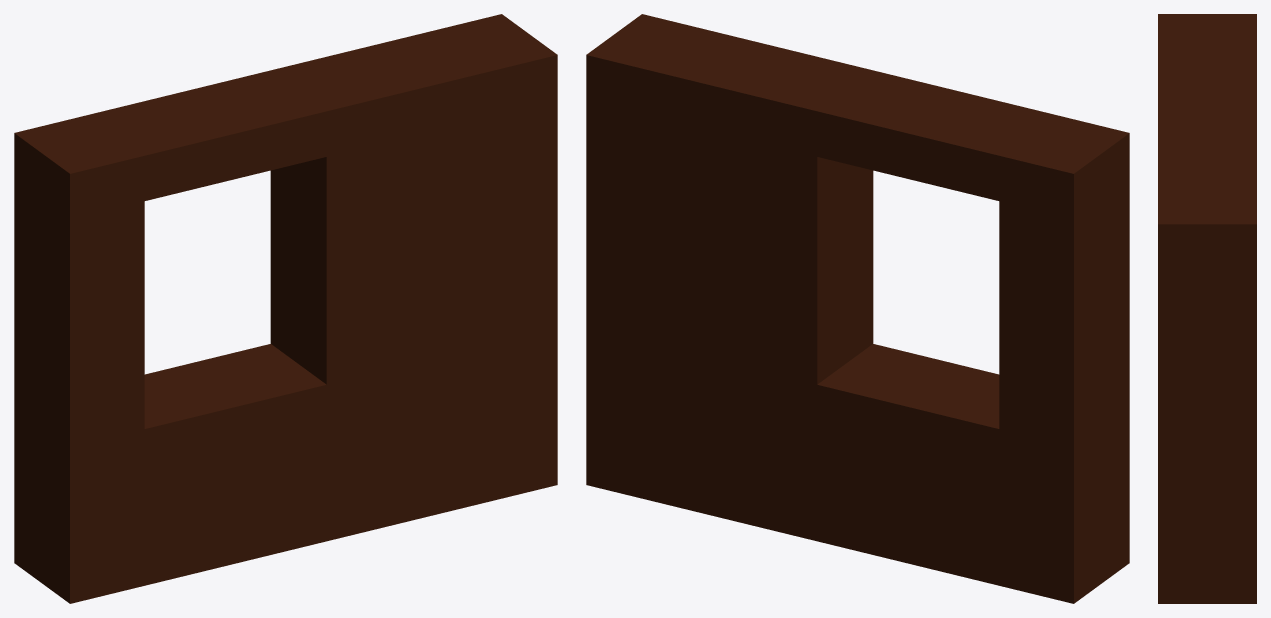
The model's file is Saloon_001_Wall_003.fbx.
3 renders of one model, left to right at view 1: azimuth 30°, elevation 25°; view 2: azimuth 150°, elevation 25°; view 3: azimuth 270°, elevation 25°, orthographic. The views are drawn at different scales.
Parts seen in each view (by area): view 1: Saloon_001_Wall_003; view 2: Saloon_001_Wall_003; view 3: Saloon_001_Wall_003.
Boxes of the visible parts, x1,y1,x2,y2 form: Saloon_001_Wall_003: (14,14,557,603); Saloon_001_Wall_003: (586,14,1129,603); Saloon_001_Wall_003: (1158,14,1256,603).
Bounding box in the file's own units: 503 × 424 × 100.
